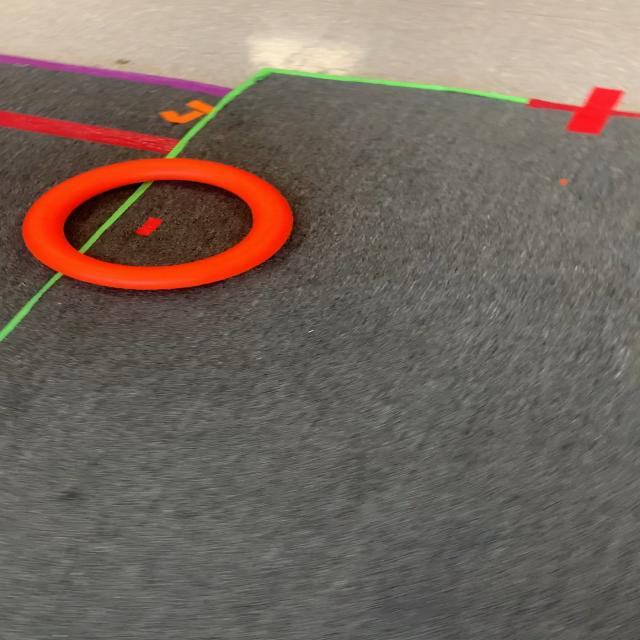notes: (20, 159, 297, 292)
